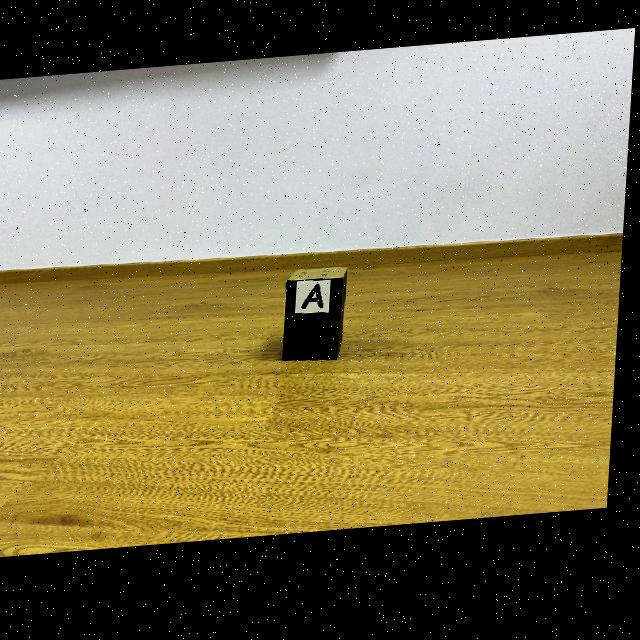A: (306, 290, 328, 315)
